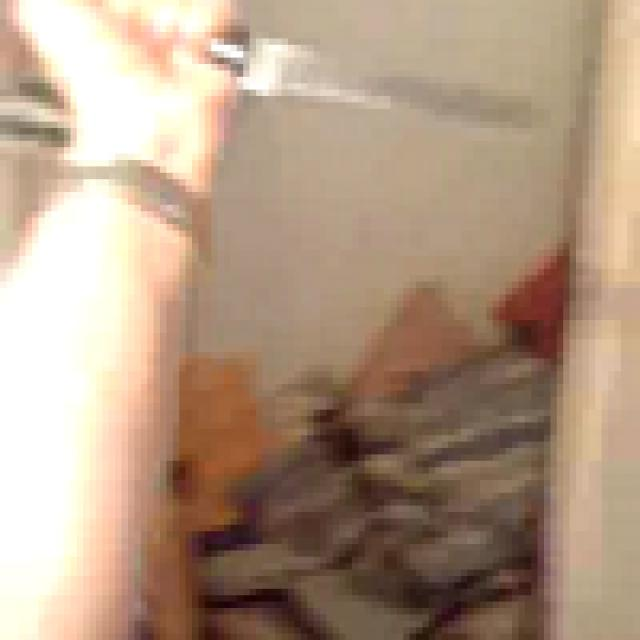Weapons: (207, 26, 559, 129)
